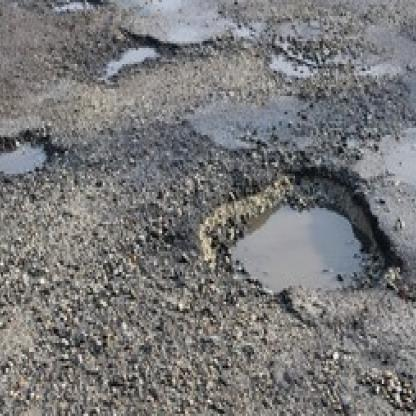pothole: (195, 158, 402, 304), (0, 128, 51, 178), (103, 37, 162, 78), (57, 0, 101, 12)
